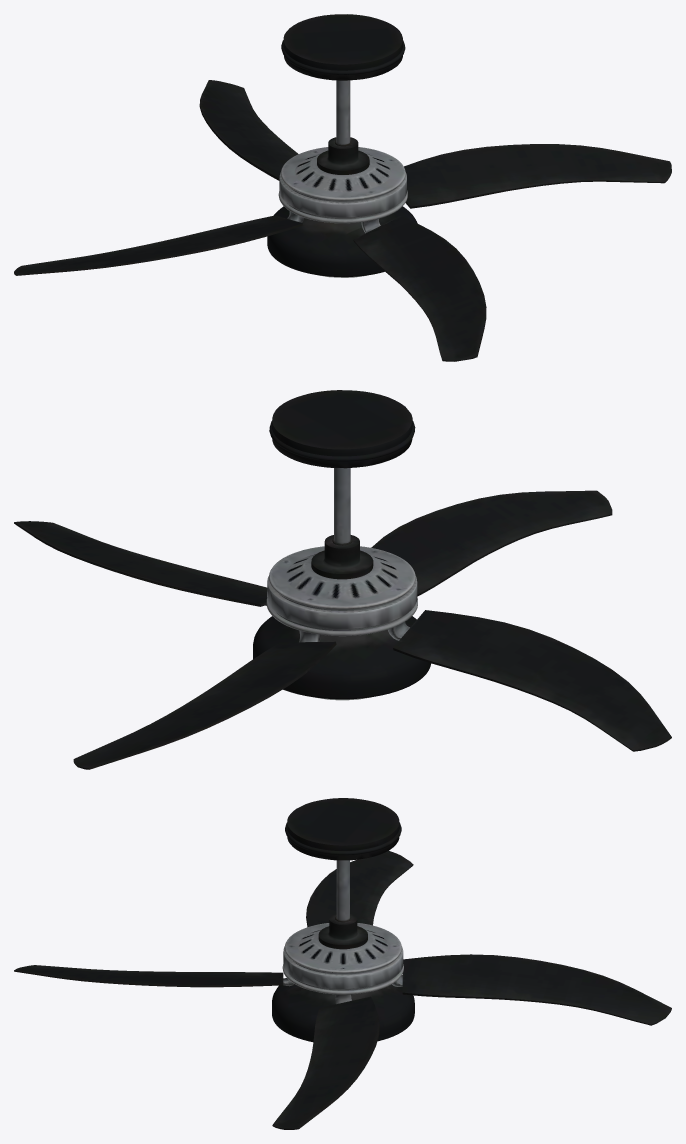
File: ph_ceiling_fan.glb
The picture shows the model from 3 angles, top to bottom: view 1: azimuth 30°, elevation 25°; view 2: azimuth 150°, elevation 25°; view 3: azimuth 270°, elevation 25°; orthographic projection. The views are drawn at different scales.
Parts seen in each view (by area): view 1: ceiling_fan; view 2: ceiling_fan; view 3: ceiling_fan.
Boxes of the visible parts, bbox=[...] form: ceiling_fan: bbox=[14, 14, 671, 361]; ceiling_fan: bbox=[14, 390, 671, 769]; ceiling_fan: bbox=[14, 798, 671, 1129].
Size of the model in its own units: 1.46 by 0.5163 by 1.46.
1 material, 1 textured.
